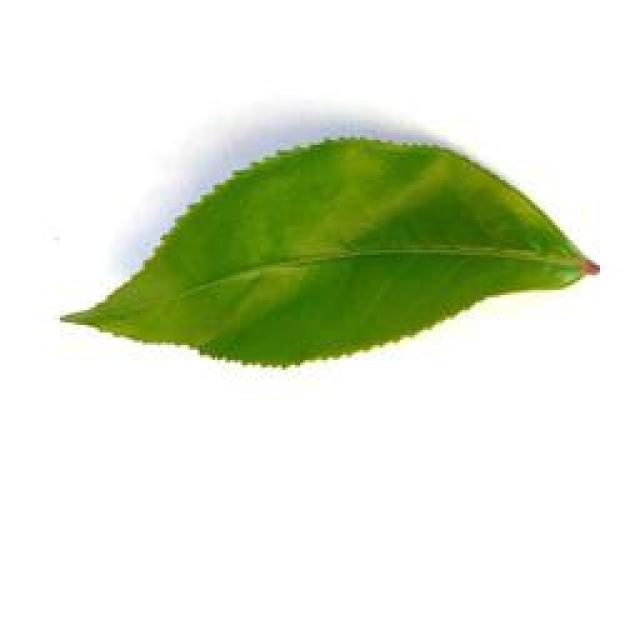Healthy: (0, 132, 600, 380)
